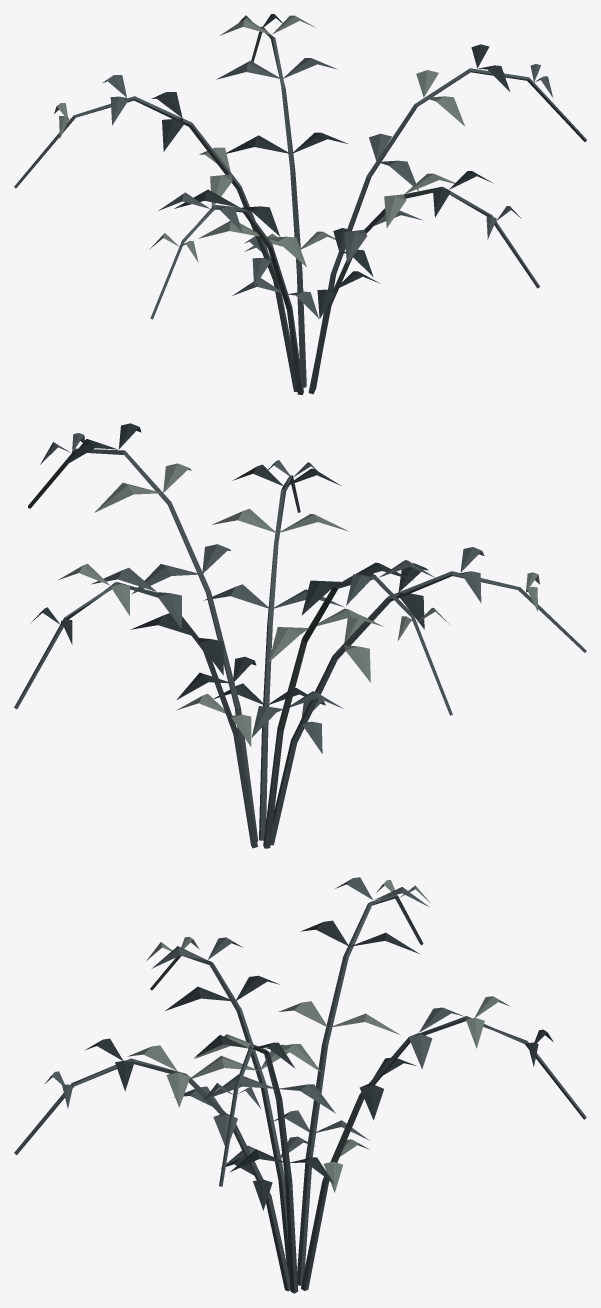
Rendered from CHAR_FERN.lo.glb.
The picture shows the model from 3 angles, top to bottom: view 1: azimuth 30°, elevation 25°; view 2: azimuth 150°, elevation 25°; view 3: azimuth 270°, elevation 25°; orthographic projection. The views are drawn at different scales.
Parts seen in each view (by area): view 1: CHAR_FERN; view 2: CHAR_FERN; view 3: CHAR_FERN.
Part boxes in pixels (x1=…): CHAR_FERN: x1=14, y1=14, x2=586, y2=394; CHAR_FERN: x1=14, y1=423, x2=586, y2=848; CHAR_FERN: x1=14, y1=877, x2=586, y2=1293.
Size of the model in its own units: 0.6809 by 0.4288 by 0.6739.
Materials: 1 (1 with a texture image).
